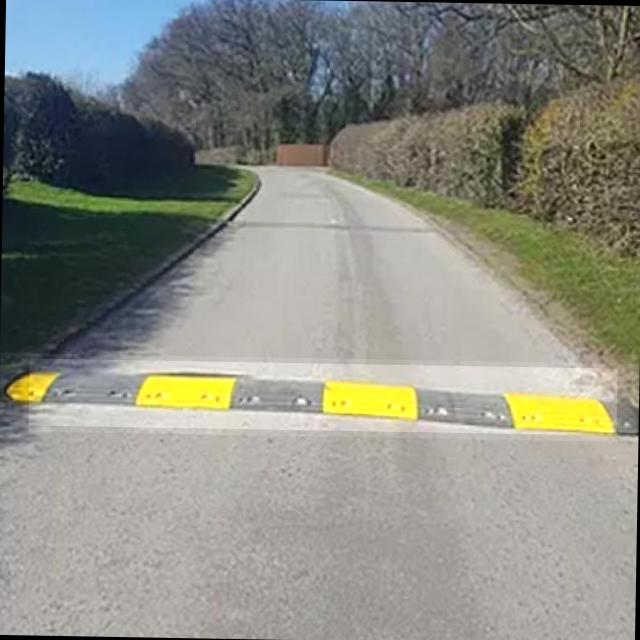bump: (28, 358, 618, 435)
